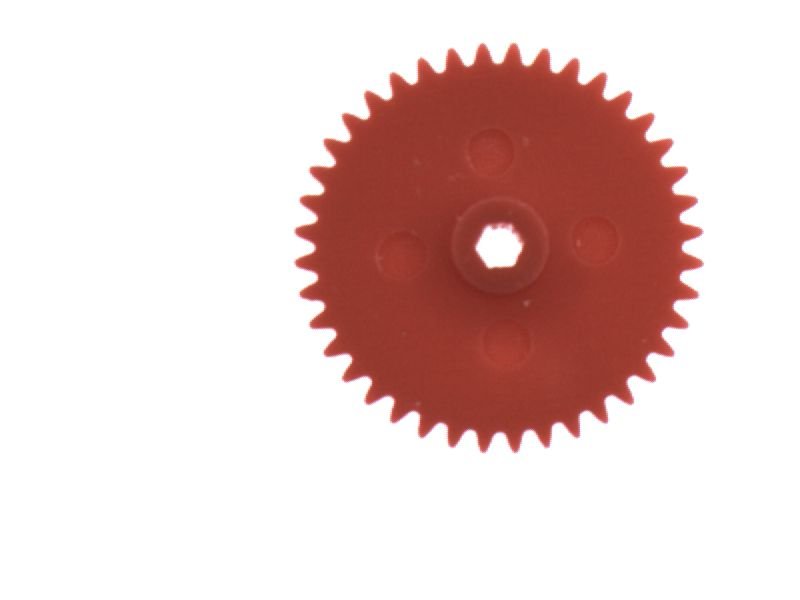good_product: (281, 32, 717, 461)
